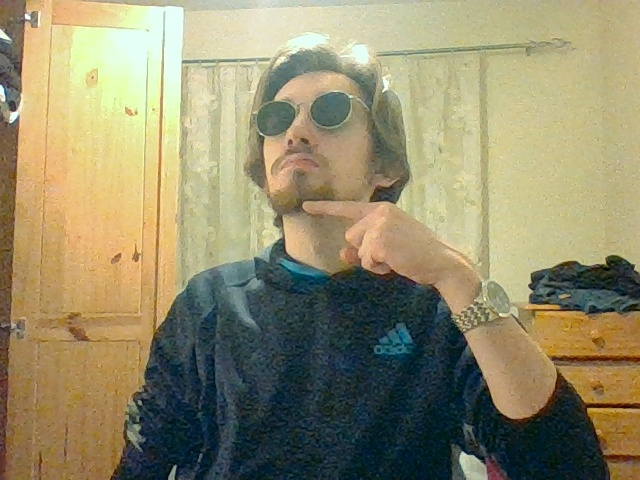son: (301, 199, 409, 275)
